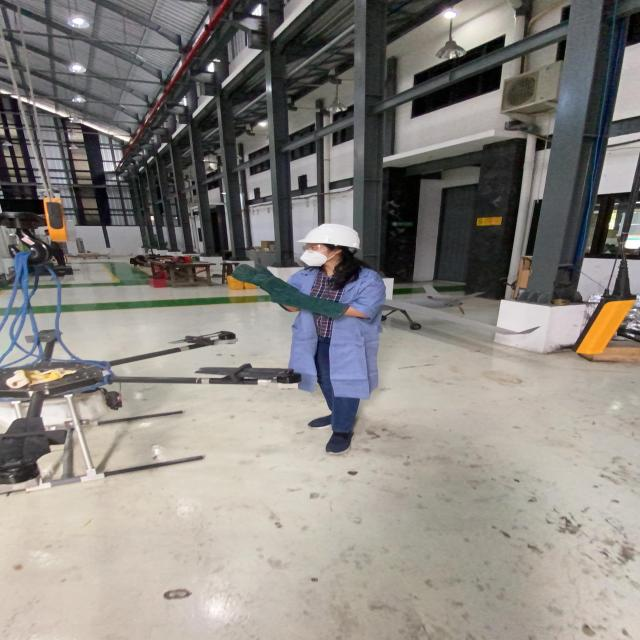face_mask: (297, 243, 334, 267)
glasses: (297, 242, 336, 255)
hand_glove: (265, 283, 310, 309), (228, 262, 276, 286)
head_helmet: (297, 222, 364, 249)
person: (228, 223, 394, 461)
shoes: (319, 421, 361, 458)
